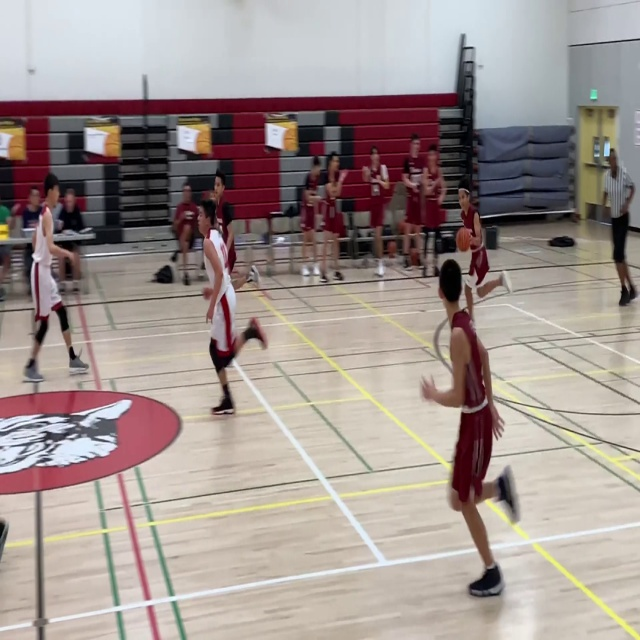Basketball: (455, 227, 472, 252)
